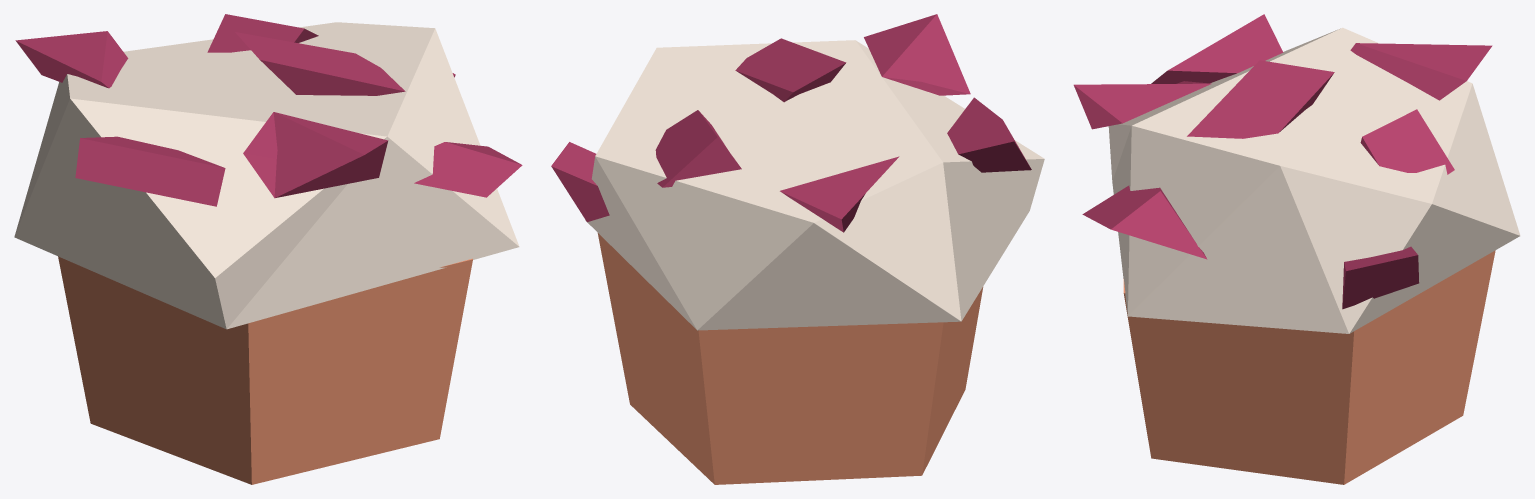
The model's file is Muffin.fbx.
3 views of the same model, side by side, from view 1: azimuth 30°, elevation 25°; view 2: azimuth 150°, elevation 25°; view 3: azimuth 270°, elevation 25° (orthographic). The views are drawn at different scales.
Parts seen in each view (by area): view 1: Muffin; view 2: Muffin; view 3: Muffin.
Boxes of the visible parts, x1,y1,x2,y2 form: Muffin: (14, 14, 522, 484); Muffin: (551, 14, 1044, 484); Muffin: (1073, 14, 1520, 484).
Size of the model in its own units: 43.79 by 35.61 by 42.11.
